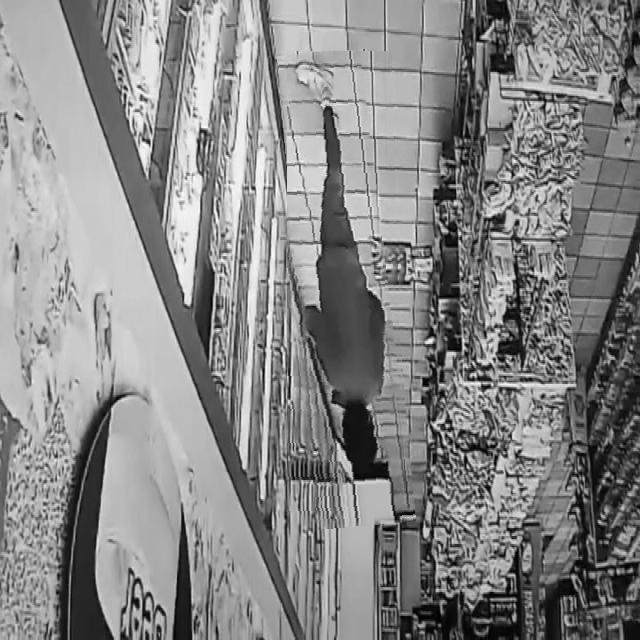Normal: (287, 51, 406, 528)
